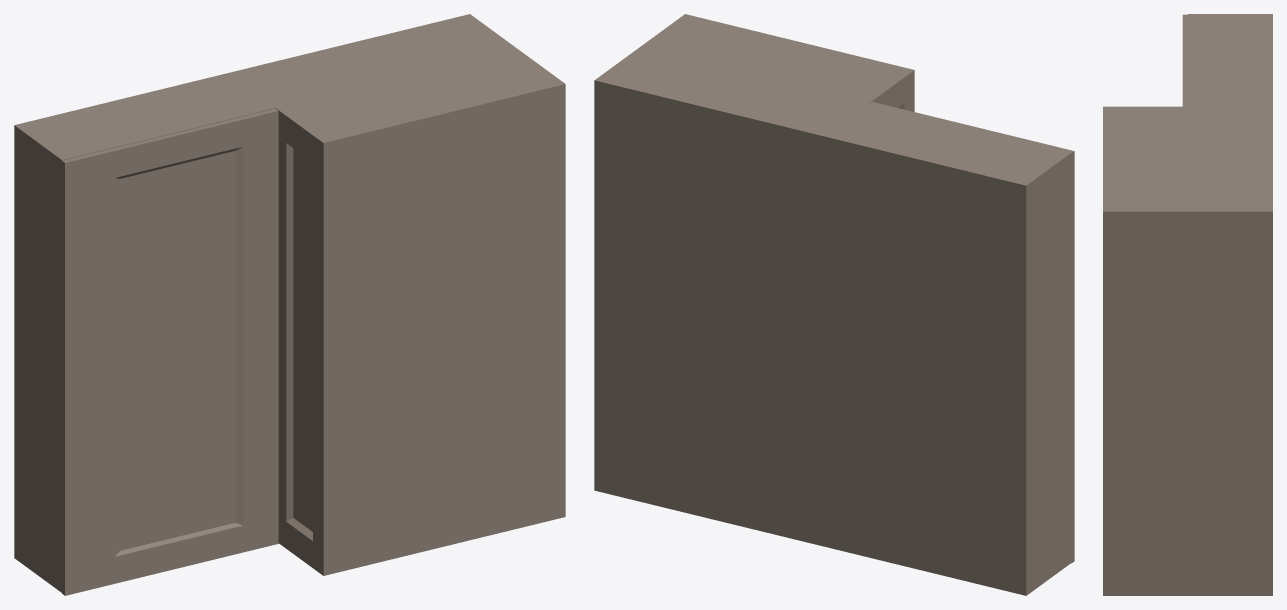
File: Wall-Cabinet-Easy-Reach-12-Deep_std_001_W33in.glb
3 renders of one model, left to right at view 1: azimuth 30°, elevation 25°; view 2: azimuth 150°, elevation 25°; view 3: azimuth 270°, elevation 25°, orthographic. The views are drawn at different scales.
Visible parts, largest first — view 1: Wall-Cabinet-Easy-Reach-12-Deep.std.001_W33in; view 2: Wall-Cabinet-Easy-Reach-12-Deep.std.001_W33in; view 3: Wall-Cabinet-Easy-Reach-12-Deep.std.001_W33in.
Boxes of the visible parts, x1=… form: Wall-Cabinet-Easy-Reach-12-Deep.std.001_W33in: x1=14, y1=14, x2=565, y2=595; Wall-Cabinet-Easy-Reach-12-Deep.std.001_W33in: x1=594, y1=14, x2=1074, y2=595; Wall-Cabinet-Easy-Reach-12-Deep.std.001_W33in: x1=1103, y1=14, x2=1272, y2=595.
Bounding box in the file's own units: 0.8382 × 0.762 × 0.3048.
